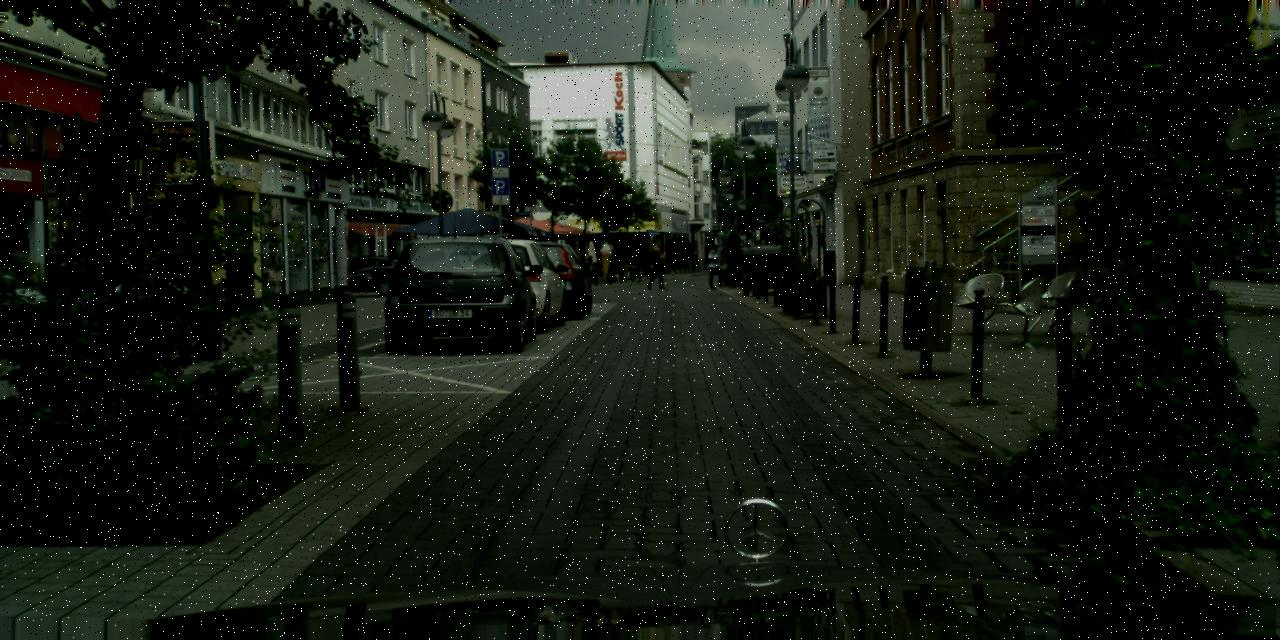ped: (648, 244, 667, 289), (706, 243, 724, 288), (735, 247, 751, 287)
